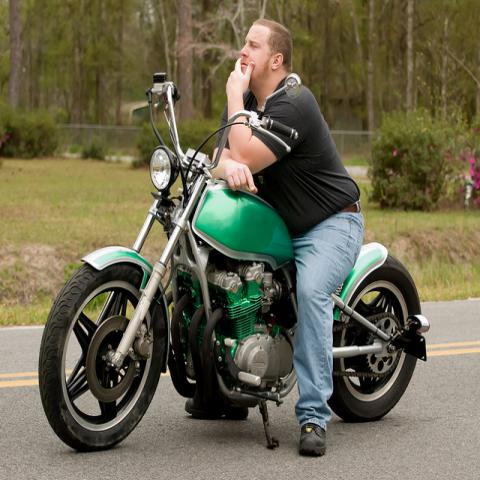motorcycle: (37, 80, 422, 443)
